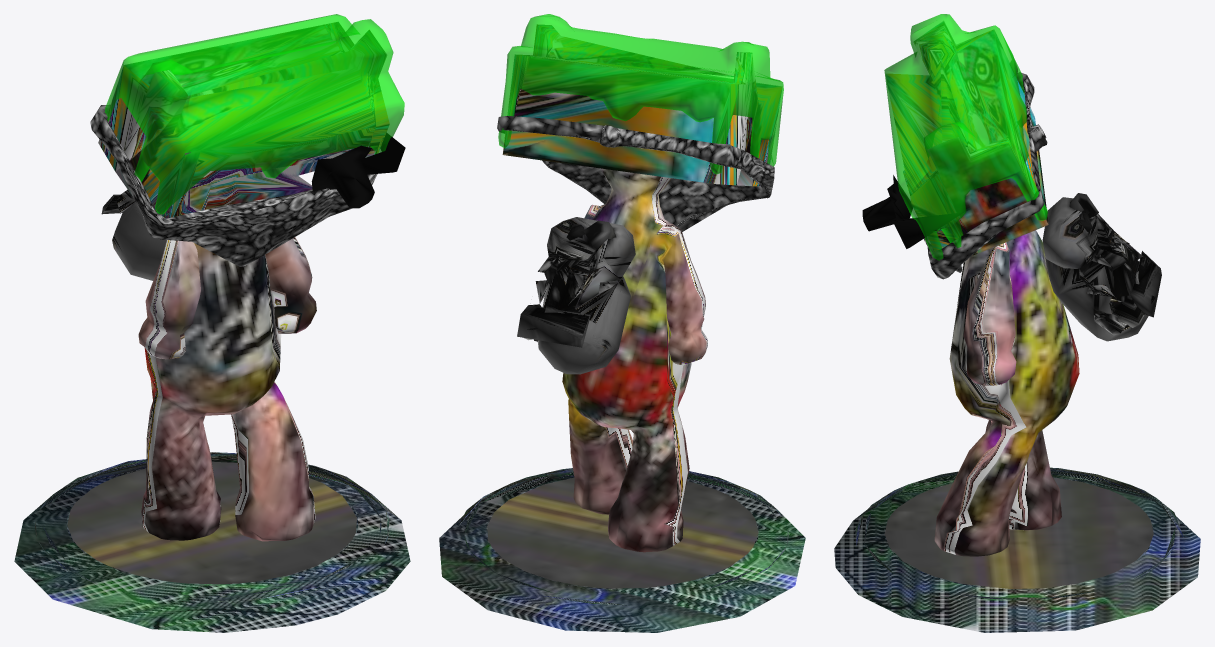
3 views of the same model, side by side, from view 1: azimuth 30°, elevation 25°; view 2: azimuth 150°, elevation 25°; view 3: azimuth 270°, elevation 25° (orthographic). The views are drawn at different scales.
Bounding box in the file's own units: 1.43 × 2.15 × 1.43.
8 materials, 6 textured.
